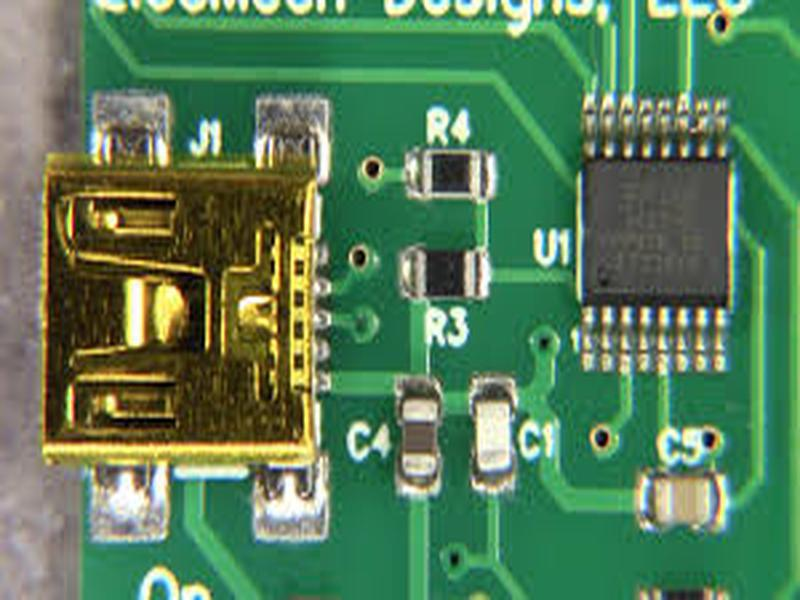SMD capacitor: (641, 468, 723, 534), (399, 395, 440, 489), (471, 393, 513, 479)
SMD resistor: (410, 247, 487, 300), (421, 151, 485, 198)
